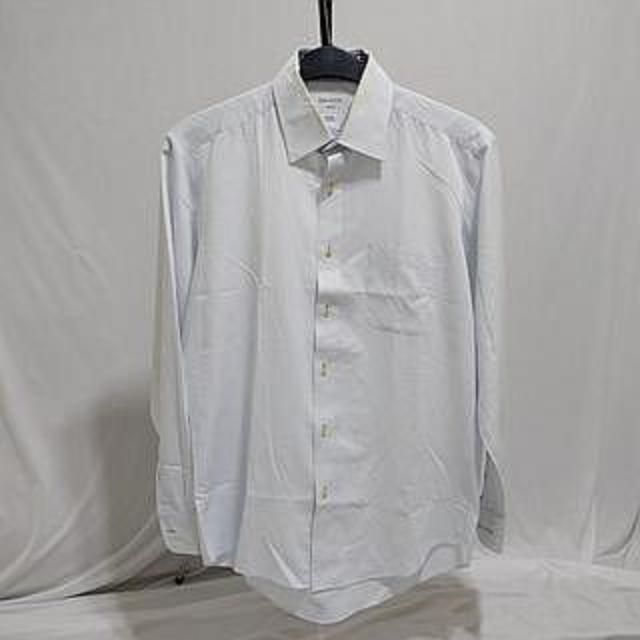SHIRT: (126, 34, 534, 630)
